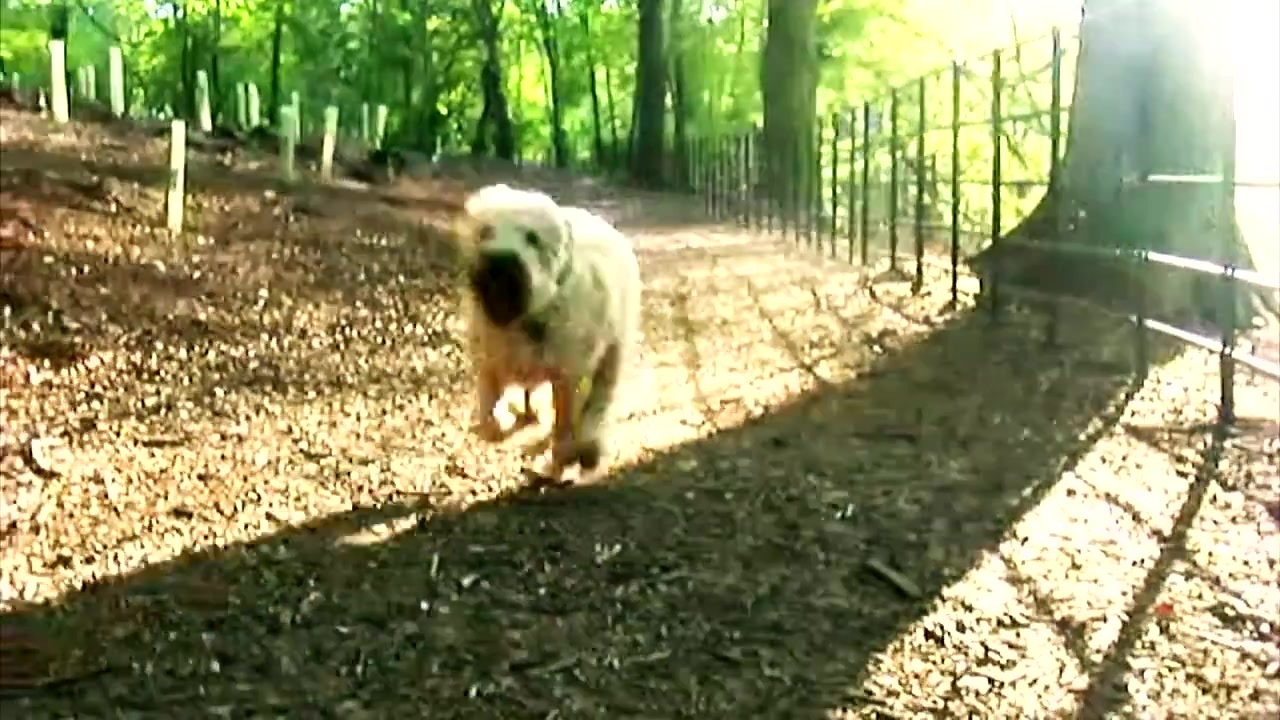dog: (461, 184, 645, 481)
